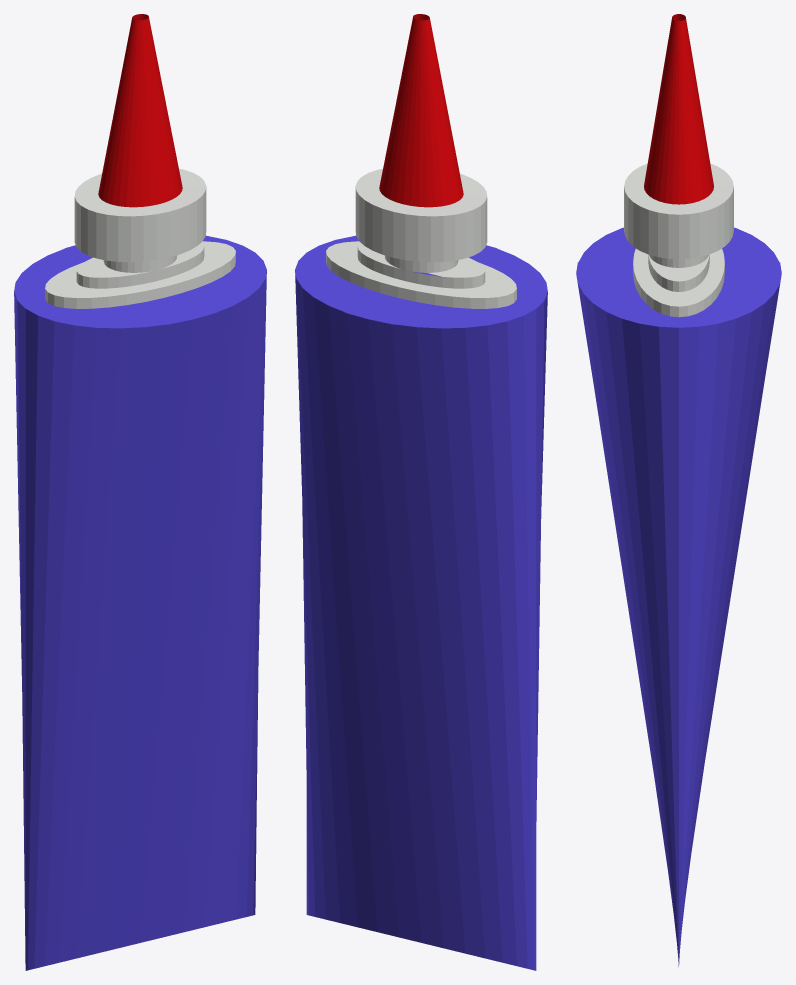
File: GLUE BASTA.fbx
3 renders of one model, left to right at view 1: azimuth 30°, elevation 25°; view 2: azimuth 150°, elevation 25°; view 3: azimuth 270°, elevation 25°, orthographic. The views are drawn at different scales.
Parts seen in each view (by area): view 1: Cylinder; view 2: Cylinder; view 3: Cylinder.
Part boxes in pixels (box(x1,y1,x2,y2)): Cylinder: box(14, 14, 266, 970); Cylinder: box(295, 14, 547, 970); Cylinder: box(576, 14, 781, 966).
Bounding box in the file's own units: 111 × 426 × 88.29.
